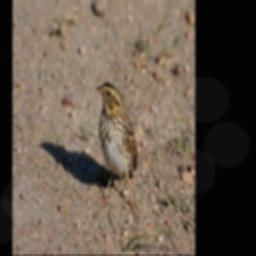Sparrow: (93, 78, 138, 216)
